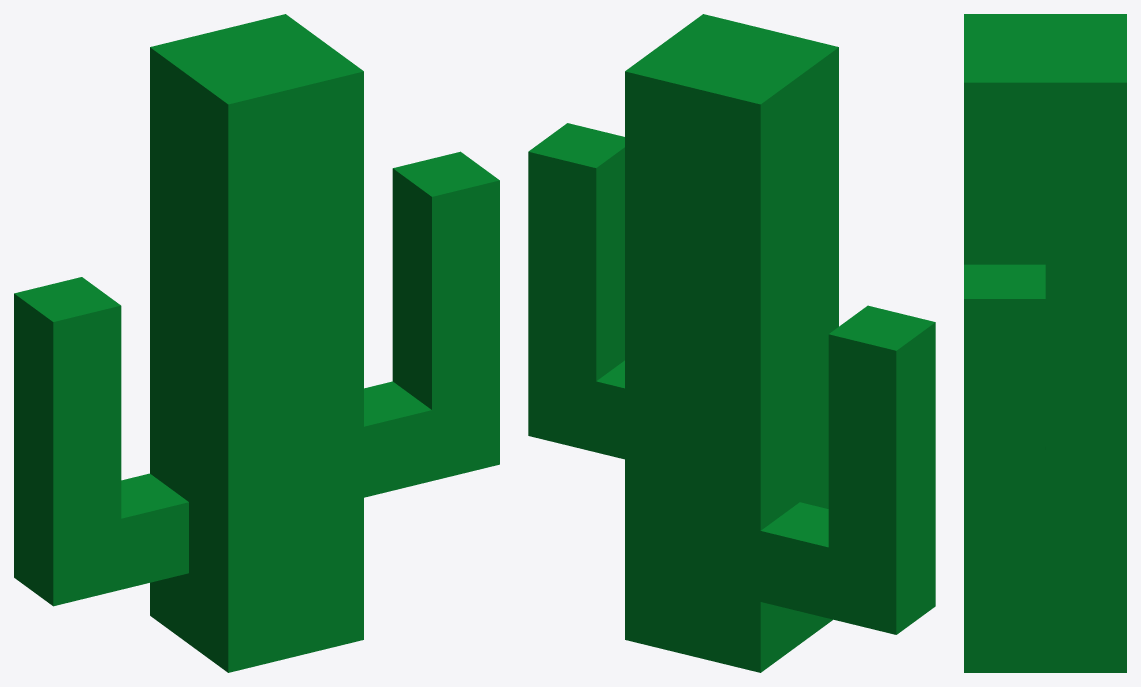
File: cactus-3.gltf
3 views of the same model, side by side, from view 1: azimuth 30°, elevation 25°; view 2: azimuth 150°, elevation 25°; view 3: azimuth 270°, elevation 25° (orthographic). The views are drawn at different scales.
Visible parts, largest first — view 1: cactus-3; view 2: cactus-3; view 3: cactus-3.
Part boxes in pixels (x1,y1,x2,y2): cactus-3: [14, 14, 499, 672]; cactus-3: [528, 14, 935, 672]; cactus-3: [964, 14, 1126, 672].
Size of the model in its own units: 0.6 by 0.8 by 0.2.
1 material, 1 textured.
